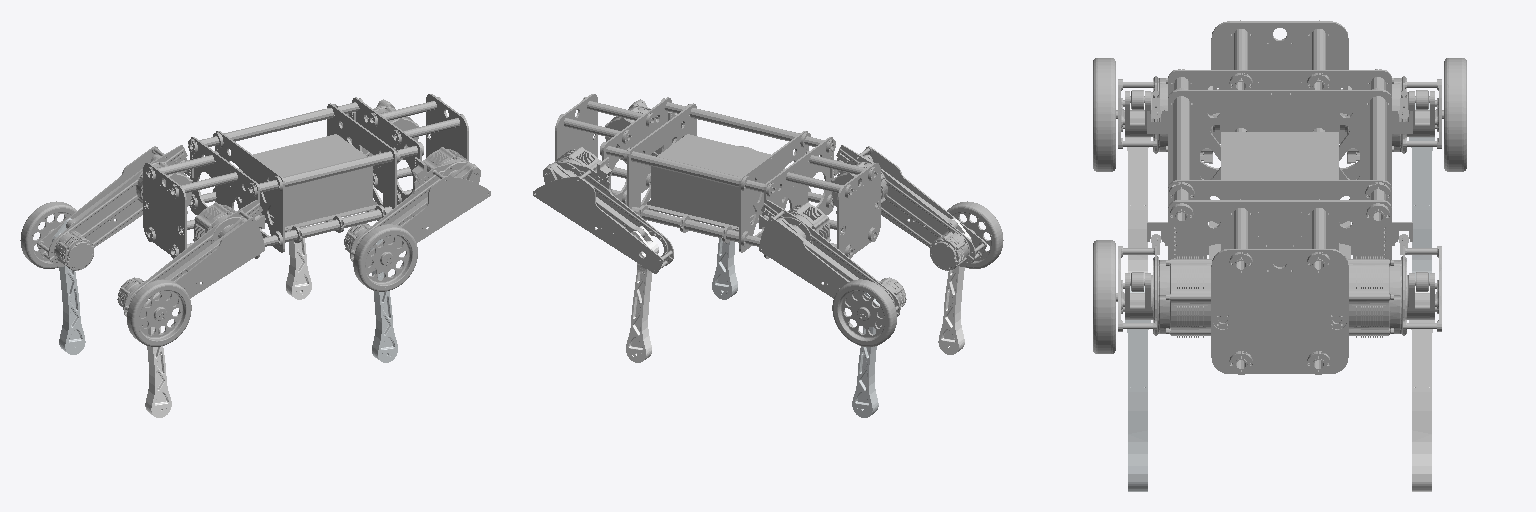
The robot description file, URDF, robot "openrobot_urdf_new_wheelfixed":
<?xml version='1.0' encoding='utf-8'?>
<robot name="openrobot_urdf_new_wheelfixed">
  <link name="base_link">
    <inertial>
      <origin xyz="-0.0095784 4.3325E-06 0.10347" rpy="0 0 0" />
      <mass value="55.995" />
      <inertia ixx="0.51509" ixy="1.2331E-08" ixz="-2.1274E-06" iyy="0.90609" iyz="1.6669E-07" izz="1.1068" />
    </inertial>
    <visual>
      <origin xyz="0 0 0" rpy="0 0 0" />
      <geometry>
        <mesh filename="../meshes/base_link.STL" />
      </geometry>
      <material name="">
        <color rgba="0.75294 0.75294 0.75294 1" />
      </material>
    </visual>
    <collision>
      <origin xyz="0 0 0" rpy="0 0 0" />
      <geometry>
        <mesh filename="../collision/base_link_collision.STL" />
      </geometry>
    </collision>
  </link>
  <link name="FR_hip">
    <inertial>
      <origin xyz="0.075969 0.0046195 -0.00016581" rpy="0 0 0" />
      <mass value="1.5588" />
      <inertia ixx="0.0043161" ixy="-9.2748E-05" ixz="-4.0192E-06" iyy="0.0063647" iyz="9.1556E-06" izz="0.0056592" />
    </inertial>
    <visual>
      <origin xyz="0 0 0" rpy="0 0 0" />
      <geometry>
        <mesh filename="../meshes/FR_hip.STL" />
      </geometry>
      <material name="">
        <color rgba="0.75294 0.75294 0.75294 1" />
      </material>
    </visual>
    <collision>
      <origin xyz="0 0 0" rpy="0 0 0" />
      <geometry>
        <mesh filename="../collision/FR_hip_collision.STL" />
      </geometry>
    </collision>
  </link>
  <joint name="FR_hip_joint" type="revolute">
    <origin xyz="0.3225 -0.125 0.089" rpy="0 0 0" />
    <parent link="base_link" />
    <child link="FR_hip" />
    <axis xyz="-1 0 0" />
    <limit lower="-0.2" upper="0.2" effort="200" velocity="12.8" />
  </joint>
  <link name="FR_thigh">
    <inertial>
      <origin xyz="-0.1035 -0.13997 -0.039816" rpy="0 0 0" />
      <mass value="5.9125" />
      <inertia ixx="0.022722" ixy="0.00015499" ixz="-0.023725" iyy="0.077381" iyz="4.2098E-05" izz="0.059386" />
    </inertial>
    <visual>
      <origin xyz="0 0 0" rpy="0 0 0" />
      <geometry>
        <mesh filename="../meshes/FR_thigh.STL" />
      </geometry>
      <material name="">
        <color rgba="0.75294 0.75294 0.75294 1" />
      </material>
    </visual>
    <collision>
      <origin xyz="0 0 0" rpy="0 0 0" />
      <geometry>
        <mesh filename="../collision/FR_thigh_collision.STL" />
      </geometry>
    </collision>
  </link>
  <joint name="FR_thigh_joint" type="revolute">
    <origin xyz="0.138 -0.0175 0" rpy="0 0 0" />
    <parent link="FR_hip" />
    <child link="FR_thigh" />
    <axis xyz="0 1 0" />
    <limit lower="-1.5" upper="0" effort="200" velocity="12.8" />
  </joint>
  <link name="FR_calf">
    <inertial>
      <origin xyz="0.025473 -0.034747 -0.18016" rpy="0 0 0" />
      <mass value="2.2772" />
      <inertia ixx="0.050142" ixy="1.5482E-05" ixz="0.0038689" iyy="0.050789" iyz="-0.00010335" izz="0.0014869" />
    </inertial>
    <visual>
      <origin xyz="0 0 0" rpy="0 0 0" />
      <geometry>
        <mesh filename="../meshes/FR_calf.STL" />
      </geometry>
      <material name="">
        <color rgba="0.89804 0.91765 0.92941 1" />
      </material>
    </visual>
    <collision>
      <origin xyz="0 0 0" rpy="0 0 0" />
      <geometry>
        <mesh filename="../collision/FR_calf_collision.STL" />
      </geometry>
    </collision>
  </link>
  <joint name="FR_calf_joint" type="revolute">
    <origin xyz="-0.36252 -0.13375 -0.16905" rpy="0 0 0" />
    <parent link="FR_thigh" />
    <child link="FR_calf" />
    <axis xyz="0 1 0" />
    <limit lower="-1.6" upper="0.6" effort="300" velocity="9.4" />
  </joint>
  <link name="FR_foot">
    <inertial>
      <origin xyz="-0.0014882 0.022 -0.019608" rpy="0 0 0" />
      <mass value="0.28164" />
      <inertia ixx="7.6532E-05" ixy="2.8021E-19" ixz="8.2308E-06" iyy="0.00018109" iyz="-1.8799E-20" izz="0.00018435" />
    </inertial>
    <visual>
      <origin xyz="0 0 0" rpy="0 0 0" />
      <geometry>
        <mesh filename="../meshes/FR_foot.STL" />
      </geometry>
      <material name="">
        <color rgba="0.89804 0.91765 0.92941 1" />
      </material>
    </visual>
    <collision>
      <origin xyz="0 0 0" rpy="0 0 0" />
      <geometry>
        <mesh filename="../collision/FR_foot_collision.STL" />
      </geometry>
    </collision>
  </link>
  <joint name="FR_foot_joint" type="fixed">
    <origin xyz="0.038934 -0.057 -0.40434" rpy="0 0 0" />
    <parent link="FR_calf" />
    <child link="FR_foot" />
  </joint>
  <link name="FR_wheel">
    <inertial>
      <origin xyz="-3.2387E-07 -0.089667 1.2424E-05" rpy="0 0 0" />
      <mass value="3.5426" />
      <inertia ixx="0.017928" ixy="-5.3429E-07" ixz="1.0296E-06" iyy="0.034154" iyz="-8.3749E-08" izz="0.017929" />
    </inertial>
    <visual>
      <origin xyz="0 0 0" rpy="0 0 0" />
      <geometry>
        <mesh filename="../meshes/FR_wheel.STL" />
      </geometry>
      <material name="">
        <color rgba="0.75294 0.75294 0.75294 1" />
      </material>
    </visual>
    <collision>
      <origin xyz="-3.77483666e-05 -0.0185499974 0" rpy="1.57079632679 0 0" />
      <geometry>
        <cylinder radius="0.124966815" length="0.228900008" />
      </geometry>
    </collision>
  </link>
  <joint name="FR_wheel_joint" type="fixed">
    <origin xyz="-0.36252 -0.13375 -0.16905" rpy="0 0 0" />
    <parent link="FR_thigh" />
    <child link="FR_wheel" />
  </joint>
  <link name="FL_hip">
    <inertial>
      <origin xyz="0.075969 -0.0046195 -0.00016581" rpy="0 0 0" />
      <mass value="1.5588" />
      <inertia ixx="0.0043161" ixy="9.2748E-05" ixz="-4.0191E-06" iyy="0.0063647" iyz="-9.156E-06" izz="0.0056592" />
    </inertial>
    <visual>
      <origin xyz="0 0 0" rpy="0 0 0" />
      <geometry>
        <mesh filename="../meshes/FL_hip.STL" />
      </geometry>
      <material name="">
        <color rgba="0.75294 0.75294 0.75294 1" />
      </material>
    </visual>
    <collision>
      <origin xyz="0 0 0" rpy="0 0 0" />
      <geometry>
        <mesh filename="../collision/FL_hip_collision.STL" />
      </geometry>
    </collision>
  </link>
  <joint name="FL_hip_joint" type="revolute">
    <origin xyz="0.3225 0.125 0.089" rpy="0 0 0" />
    <parent link="base_link" />
    <child link="FL_hip" />
    <axis xyz="-1 0 0" />
    <limit lower="-0.2" upper="0.2" effort="200" velocity="12.8" />
  </joint>
  <link name="FL_thigh">
    <inertial>
      <origin xyz="-0.12448 0.15004 -0.035022" rpy="0 0 0" />
      <mass value="5.9125" />
      <inertia ixx="0.022722" ixy="-0.00015498" ixz="-0.023725" iyy="0.077381" iyz="-4.2099E-05" izz="0.059386" />
    </inertial>
    <visual>
      <origin xyz="0 0 0" rpy="0 0 0" />
      <geometry>
        <mesh filename="../meshes/FL_thigh.STL" />
      </geometry>
      <material name="">
        <color rgba="0.75294 0.75294 0.75294 1" />
      </material>
    </visual>
    <collision>
      <origin xyz="0 0 0" rpy="0 0 0" />
      <geometry>
        <mesh filename="../collision/FL_thigh_collision.STL" />
      </geometry>
    </collision>
  </link>
  <joint name="FL_thigh_joint" type="revolute">
    <origin xyz="0.15899 0.007423 -0.0047941" rpy="0 0 0" />
    <parent link="FL_hip" />
    <child link="FL_thigh" />
    <axis xyz="0 -1 0" />
    <limit lower="0" upper="1.5" effort="200" velocity="12.8" />
  </joint>
  <link name="FL_calf">
    <inertial>
      <origin xyz="0.057064 0.020452 -0.1947" rpy="0 0 0" />
      <mass value="2.2772" />
      <inertia ixx="0.050142" ixy="-1.5482E-05" ixz="0.0038689" iyy="0.050789" iyz="0.00010335" izz="0.0014869" />
    </inertial>
    <visual>
      <origin xyz="0 0 0" rpy="0 0 0" />
      <geometry>
        <mesh filename="../meshes/FL_calf.STL" />
      </geometry>
      <material name="">
        <color rgba="1 1 1 1" />
      </material>
    </visual>
    <collision>
      <origin xyz="0 0 0" rpy="0 0 0" />
      <geometry>
        <mesh filename="../collision/FL_calf_collision.STL" />
      </geometry>
    </collision>
  </link>
  <joint name="FL_calf_joint" type="revolute">
    <origin xyz="-0.4151 0.15812 -0.14971" rpy="0 0 0" />
    <parent link="FL_thigh" />
    <child link="FL_calf" />
    <axis xyz="0 -1 0" />
    <limit lower="-0.6" upper="1.6" effort="300" velocity="9.4" />
  </joint>
  <link name="FL_foot">
    <inertial>
      <origin xyz="-0.0014882 -0.022 -0.019608" rpy="0 0 0" />
      <mass value="0.28164" />
      <inertia ixx="7.6532E-05" ixy="-2.6635E-18" ixz="8.2308E-06" iyy="0.00018109" iyz="-1.0001E-18" izz="0.00018435" />
    </inertial>
    <visual>
      <origin xyz="0 0 0" rpy="0 0 0" />
      <geometry>
        <mesh filename="../meshes/FL_foot.STL" />
      </geometry>
      <material name="">
        <color rgba="1 1 1 1" />
      </material>
    </visual>
    <collision>
      <origin xyz="0 0 0" rpy="0 0 0" />
      <geometry>
        <mesh filename="../collision/FL_foot_collision.STL" />
      </geometry>
    </collision>
  </link>
  <joint name="FL_foot_joint" type="fixed">
    <origin xyz="0.070525 0.042705 -0.41889" rpy="0 0 0" />
    <parent link="FL_calf" />
    <child link="FL_foot" />
  </joint>
  <link name="FL_wheel">
    <inertial>
      <origin xyz="0.031568 0.075038 -0.014533" rpy="0 0 0" />
      <mass value="3.5528" />
      <inertia ixx="0.017929" ixy="4.5067E-07" ixz="-1.1471E-06" iyy="0.034154" iyz="3.3559E-07" izz="0.01793" />
    </inertial>
    <visual>
      <origin xyz="0 0 0" rpy="0 0 0" />
      <geometry>
        <mesh filename="../meshes/FL_wheel.STL" />
      </geometry>
      <material name="">
        <color rgba="0.75294 0.75294 0.75294 1" />
      </material>
    </visual>
    <collision>
      <origin xyz="0.0315316617 0.00450462848 -0.0145436227" rpy="1.57079632679 0 0" />
      <geometry>
        <cylinder radius="0.124989673" length="0.228400007" />
      </geometry>
    </collision>
  </link>
  <joint name="FL_wheel_joint" type="fixed">
    <origin xyz="-0.4151 0.15812 -0.14971" rpy="0 0 0" />
    <parent link="FL_thigh" />
    <child link="FL_wheel" />
  </joint>
  <link name="RR_hip">
    <inertial>
      <origin xyz="-0.067969 0.0046195 -0.00016581" rpy="0 0 0" />
      <mass value="1.5588" />
      <inertia ixx="0.0043161" ixy="9.2748E-05" ixz="4.0191E-06" iyy="0.0063647" iyz="9.156E-06" izz="0.0056592" />
    </inertial>
    <visual>
      <origin xyz="0 0 0" rpy="0 0 0" />
      <geometry>
        <mesh filename="../meshes/RR_hip.STL" />
      </geometry>
      <material name="">
        <color rgba="0.75294 0.75294 0.75294 1" />
      </material>
    </visual>
    <collision>
      <origin xyz="0 0 0" rpy="0 0 0" />
      <geometry>
        <mesh filename="../collision/RR_hip_collision.STL" />
      </geometry>
    </collision>
  </link>
  <joint name="RR_hip_joint" type="revolute">
    <origin xyz="-0.3535 -0.125 0.089" rpy="0 0 0" />
    <parent link="base_link" />
    <child link="RR_hip" />
    <axis xyz="1 0 0" />
    <limit lower="-0.2" upper="0.2" effort="200" velocity="12.8" />
  </joint>
  <link name="RR_thigh">
    <inertial>
      <origin xyz="-0.09342 -0.14022 -0.038325" rpy="0 0 0" />
      <mass value="5.9415" />
      <inertia ixx="0.024699" ixy="4.6797E-05" ixz="-0.02898" iyy="0.088855" iyz="5.115E-05" izz="0.068883" />
    </inertial>
    <visual>
      <origin xyz="0 0 0" rpy="0 0 0" />
      <geometry>
        <mesh filename="../meshes/RR_thigh.STL" />
      </geometry>
      <material name="">
        <color rgba="0.75294 0.75294 0.75294 1" />
      </material>
    </visual>
    <collision>
      <origin xyz="0 0 0" rpy="0 0 0" />
      <geometry>
        <mesh filename="../collision/RR_thigh_collision.STL" />
      </geometry>
    </collision>
  </link>
  <joint name="RR_thigh_joint" type="revolute">
    <origin xyz="-0.13 -0.0175 0" rpy="0 0 0" />
    <parent link="RR_hip" />
    <child link="RR_thigh" />
    <axis xyz="0 1 0" />
    <limit lower="-1.5" upper="0" effort="200" velocity="12.8" />
  </joint>
  <link name="RR_calf">
    <inertial>
      <origin xyz="0.025473 -0.034747 -0.18016" rpy="0 0 0" />
      <mass value="2.2772" />
      <inertia ixx="0.050142" ixy="1.5482E-05" ixz="0.0038689" iyy="0.050789" iyz="-0.00010335" izz="0.0014869" />
    </inertial>
    <visual>
      <origin xyz="0 0 0" rpy="0 0 0" />
      <geometry>
        <mesh filename="../meshes/RR_calf.STL" />
      </geometry>
      <material name="">
        <color rgba="1 1 1 1" />
      </material>
    </visual>
    <collision>
      <origin xyz="0 0 0" rpy="0 0 0" />
      <geometry>
        <mesh filename="../collision/RR_calf_collision.STL" />
      </geometry>
    </collision>
  </link>
  <joint name="RR_calf_joint" type="revolute">
    <origin xyz="-0.36252 -0.13375 -0.16905" rpy="0 0 0" />
    <parent link="RR_thigh" />
    <child link="RR_calf" />
    <axis xyz="0 1 0" />
    <limit lower="-1.6" upper="0.6" effort="300" velocity="9.4" />
  </joint>
  <link name="RR_foot">
    <inertial>
      <origin xyz="-0.0014882 0.022 -0.019608" rpy="0 0 0" />
      <mass value="0.28164" />
      <inertia ixx="7.6532E-05" ixy="5.4401E-20" ixz="8.2308E-06" iyy="0.00018109" iyz="3.6491E-20" izz="0.00018435" />
    </inertial>
    <visual>
      <origin xyz="0 0 0" rpy="0 0 0" />
      <geometry>
        <mesh filename="../meshes/RR_foot.STL" />
      </geometry>
      <material name="">
        <color rgba="1 1 1 1" />
      </material>
    </visual>
    <collision>
      <origin xyz="0 0 0" rpy="0 0 0" />
      <geometry>
        <mesh filename="../collision/RR_foot_collision.STL" />
      </geometry>
    </collision>
  </link>
  <joint name="RR_foot_joint" type="fixed">
    <origin xyz="0.038934 -0.057 -0.40434" rpy="0 0 0" />
    <parent link="RR_calf" />
    <child link="RR_foot" />
  </joint>
  <link name="RR_wheel">
    <inertial>
      <origin xyz="2.8772E-06 -0.089667 1.6395E-05" rpy="0 0 0" />
      <mass value="3.5426" />
      <inertia ixx="0.017928" ixy="3.1599E-07" ixz="7.3055E-07" iyy="0.034154" iyz="-1.5635E-07" izz="0.017929" />
    </inertial>
    <visual>
      <origin xyz="0 0 0" rpy="0 0 0" />
      <geometry>
        <mesh filename="../meshes/RR_wheel.STL" />
      </geometry>
      <material name="">
        <color rgba="0.75294 0.75294 0.75294 1" />
      </material>
    </visual>
    <collision>
      <origin xyz="5.20423055e-06 -0.0185499974 -2.4843961e-05" rpy="1.57079632679 0 0" />
      <geometry>
        <cylinder radius="0.124991309" length="0.228900008" />
      </geometry>
    </collision>
  </link>
  <joint name="RR_wheel_joint" type="fixed">
    <origin xyz="-0.36252 -0.13375 -0.16905" rpy="0 0 0" />
    <parent link="RR_thigh" />
    <child link="RR_wheel" />
  </joint>
  <link name="RL_hip">
    <inertial>
      <origin xyz="-0.067969 -0.0046195 -0.00016581" rpy="0 0 0" />
      <mass value="1.5588" />
      <inertia ixx="0.0043161" ixy="-9.2748E-05" ixz="4.0191E-06" iyy="0.0063647" iyz="-9.156E-06" izz="0.0056592" />
    </inertial>
    <visual>
      <origin xyz="0 0 0" rpy="0 0 0" />
      <geometry>
        <mesh filename="../meshes/RL_hip.STL" />
      </geometry>
      <material name="">
        <color rgba="1 1 1 1" />
      </material>
    </visual>
    <collision>
      <origin xyz="0 0 0" rpy="0 0 0" />
      <geometry>
        <mesh filename="../collision/RL_hip_collision.STL" />
      </geometry>
    </collision>
  </link>
  <joint name="RL_hip_joint" type="revolute">
    <origin xyz="-0.3535 0.125 0.089" rpy="0 0 0" />
    <parent link="base_link" />
    <child link="RL_hip" />
    <axis xyz="1 0 0" />
    <limit lower="-0.2" upper="0.2" effort="200" velocity="12.8" />
  </joint>
  <link name="RL_thigh">
    <inertial>
      <origin xyz="-0.09342 0.14022 -0.038325" rpy="0 0 0" />
      <mass value="5.9415" />
      <inertia ixx="0.024699" ixy="-4.6793E-05" ixz="-0.02898" iyy="0.088854" iyz="-5.1149E-05" izz="0.068883" />
    </inertial>
    <visual>
      <origin xyz="0 0 0" rpy="0 0 0" />
      <geometry>
        <mesh filename="../meshes/RL_thigh.STL" />
      </geometry>
      <material name="">
        <color rgba="0.75294 0.75294 0.75294 1" />
      </material>
    </visual>
    <collision>
      <origin xyz="0 0 0" rpy="0 0 0" />
      <geometry>
        <mesh filename="../collision/RL_thigh_collision.STL" />
      </geometry>
    </collision>
  </link>
  <joint name="RL_thigh_joint" type="revolute">
    <origin xyz="-0.13 0.0175 0" rpy="0 0 0" />
    <parent link="RL_hip" />
    <child link="RL_thigh" />
    <axis xyz="0 -1 0" />
    <limit lower="0.0" upper="1.5" effort="200" velocity="12.8" />
  </joint>
  <link name="RL_calf">
    <inertial>
      <origin xyz="0.025473 0.034747 -0.18016" rpy="0 0 0" />
      <mass value="2.2772" />
      <inertia ixx="0.050142" ixy="-1.5482E-05" ixz="0.0038689" iyy="0.050789" iyz="0.00010335" izz="0.0014869" />
    </inertial>
    <visual>
      <origin xyz="0 0 0" rpy="0 0 0" />
      <geometry>
        <mesh filename="../meshes/RL_calf.STL" />
      </geometry>
      <material name="">
        <color rgba="0.89804 0.91765 0.92941 1" />
      </material>
    </visual>
    <collision>
      <origin xyz="0 0 0" rpy="0 0 0" />
      <geometry>
        <mesh filename="../collision/RL_calf_collision.STL" />
      </geometry>
    </collision>
  </link>
  <joint name="RL_calf_joint" type="revolute">
    <origin xyz="-0.36252 0.13375 -0.16905" rpy="0 0 0" />
    <parent link="RL_thigh" />
    <child link="RL_calf" />
    <axis xyz="0 -1 0" />
    <limit lower="-0.6" upper="1.6" effort="300" velocity="9.4" />
  </joint>
  <link name="RL_foot">
    <inertial>
      <origin xyz="-0.0014882 -0.022 -0.019608" rpy="0 0 0" />
      <mass value="0.28164" />
      <inertia ixx="7.6532E-05" ixy="-1.2622E-17" ixz="8.2308E-06" iyy="0.00018109" iyz="8.6512E-19" izz="0.00018435" />
    </inertial>
    <visual>
      <origin xyz="0 0 0" rpy="0 0 0" />
      <geometry>
        <mesh filename="../meshes/RL_foot.STL" />
      </geometry>
      <material name="">
        <color rgba="0.89804 0.91765 0.92941 1" />
      </material>
    </visual>
    <collision>
      <origin xyz="0 0 0" rpy="0 0 0" />
      <geometry>
        <mesh filename="../collision/RL_foot_collision.STL" />
      </geometry>
    </collision>
  </link>
  <joint name="RL_foot_joint" type="fixed">
    <origin xyz="0.038934 0.057 -0.40434" rpy="0 0 0" />
    <parent link="RL_calf" />
    <child link="RL_foot" />
  </joint>
  <link name="RL_wheel">
    <inertial>
      <origin xyz="2.8562E-06 0.089667 1.6367E-05" rpy="0 0 0" />
      <mass value="3.5426" />
      <inertia ixx="0.017928" ixy="-3.1598E-07" ixz="7.3058E-07" iyy="0.034154" iyz="1.5637E-07" izz="0.017929" />
    </inertial>
    <visual>
      <origin xyz="0 0 0" rpy="0 0 0" />
      <geometry>
        <mesh filename="../meshes/RL_wheel.STL" />
      </geometry>
      <material name="">
        <color rgba="0.75294 0.75294 0.75294 1" />
      </material>
    </visual>
    <collision>
      <origin xyz="5.20423055e-06 0.0185499974 -2.4843961e-05" rpy="1.57079632679 0 0" />
      <geometry>
        <cylinder radius="0.124991309" length="0.228900008" />
      </geometry>
    </collision>
  </link>
  <joint name="RL_wheel_joint" type="fixed">
    <origin xyz="-0.36252 0.13375 -0.16905" rpy="0 0 0" />
    <parent link="RL_thigh" />
    <child link="RL_wheel" />
  </joint>
</robot>

--- What the picture shows (computed from the rendered views, not written in the file) ---
Views: 3 orthographic renders of the robot side by side, from view 1: azimuth 30°, elevation 25°; view 2: azimuth 150°, elevation 25°; view 3: azimuth 270°, elevation 25°.
Robot: openrobot_urdf_new_wheelfixed — 21 links, 20 joints (12 revolute, 8 fixed); root link base_link; default pose: every joint at zero.
Visible links, largest first — view 1: base_link, RR_thigh, FR_thigh, RL_thigh, RR_wheel, FR_wheel, RL_wheel, RL_calf, RR_calf, FR_calf, FL_calf, FL_thigh; view 2: base_link, FL_thigh, RL_thigh, RR_thigh, RL_wheel, RR_wheel, FL_calf, RR_calf, RL_calf, FR_calf, FR_thigh; view 3: base_link, FR_thigh, FL_thigh, FR_calf, FL_calf, RR_thigh, RL_thigh, RR_wheel, RL_wheel, FR_wheel, RR_calf, RL_calf.
Boxes of the visible links, <box> form: base_link: <box>143,94,468,258</box>; RR_thigh: <box>123,200,264,328</box>; FR_thigh: <box>350,147,490,273</box>; RL_thigh: <box>37,145,192,266</box>; RR_wheel: <box>117,277,191,346</box>; FR_wheel: <box>344,223,417,291</box>; RL_wheel: <box>20,201,93,270</box>; RL_calf: <box>52,218,85,349</box>; RR_calf: <box>144,292,171,412</box>; FR_calf: <box>370,239,397,357</box>; FL_calf: <box>286,227,311,294</box>; FL_thigh: <box>341,99,418,163</box>; base_link: <box>555,94,880,258</box>; FL_thigh: <box>533,147,673,273</box>; RL_thigh: <box>759,200,900,328</box>; RR_thigh: <box>831,145,986,266</box>; RL_wheel: <box>832,277,906,346</box>; RR_wheel: <box>930,201,1003,270</box>; FL_calf: <box>626,226,658,357</box>; RR_calf: <box>938,218,971,349</box>; RL_calf: <box>852,292,879,412</box>; FR_calf: <box>712,227,737,294</box>; FR_thigh: <box>605,99,682,163</box>; base_link: <box>1147,20,1412,374</box>; FR_thigh: <box>1118,234,1211,337</box>; FL_thigh: <box>1348,234,1441,337</box>; FR_calf: <box>1125,286,1150,481</box>; FL_calf: <box>1409,286,1434,481</box>; RR_thigh: <box>1118,76,1219,163</box>; RL_thigh: <box>1340,76,1441,163</box>; RR_wheel: <box>1093,58,1124,171</box>; RL_wheel: <box>1435,58,1466,171</box>; FR_wheel: <box>1093,240,1124,353</box>; RR_calf: <box>1125,103,1150,278</box>; RL_calf: <box>1409,103,1434,278</box>.
Bounding box of the posed robot: 1.57 × 0.8185 × 0.7859 m (x, y, z).
16 mesh visuals loaded from 21 distinct referenced files (16 binary STL); not drawn: 5 (reference not matched to a file when rendering).
